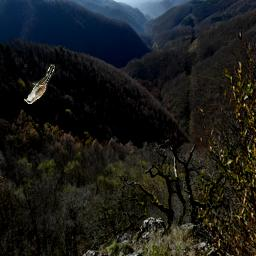Cuckoo: (24, 64, 55, 104)
